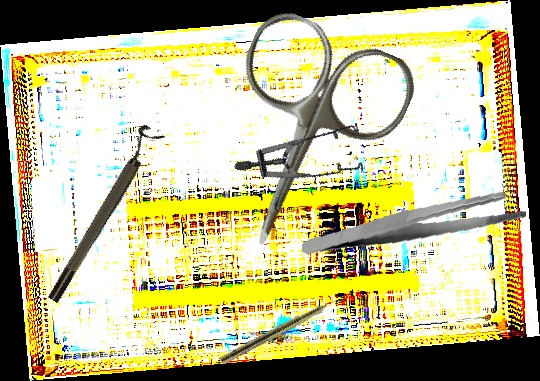Dressing Forceps: (301, 178, 528, 270)
Fixation Ring: (37, 122, 166, 306)
Handpiece: (219, 292, 346, 367)
Iris Scissors: (180, 2, 425, 277)
Speculum: (233, 84, 380, 217)
